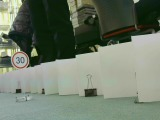speed_30: (10, 51, 29, 69)
